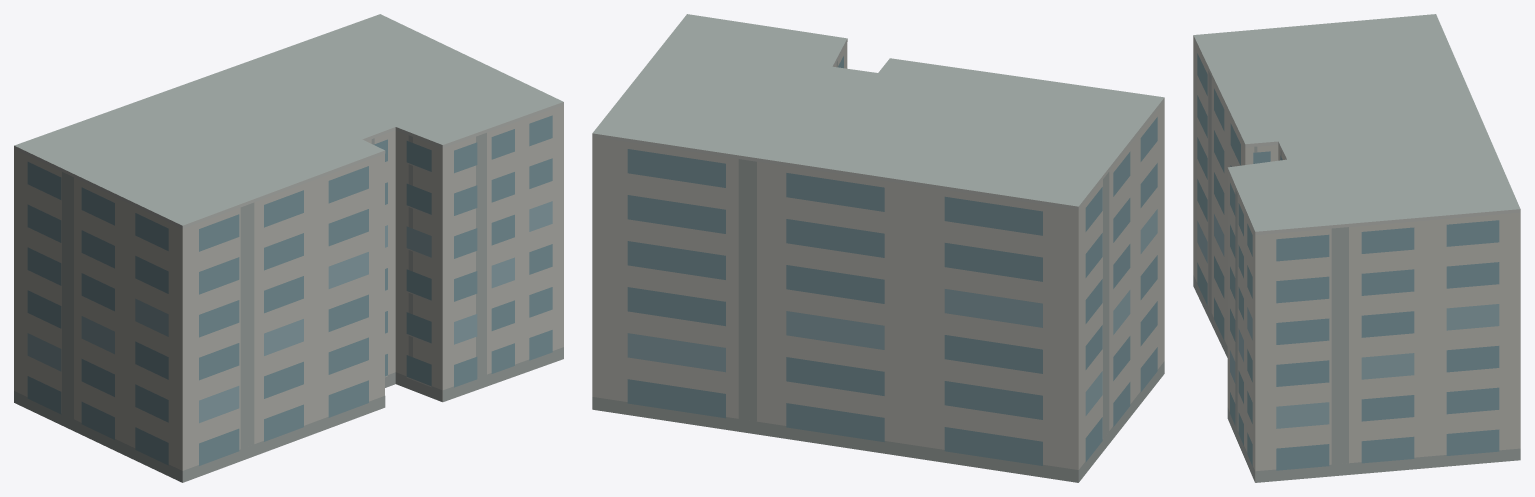
The model's file is survey-upis-33026163.glb.
3 views of the same model, side by side, from view 1: azimuth 30°, elevation 25°; view 2: azimuth 150°, elevation 25°; view 3: azimuth 270°, elevation 25° (orthographic). The views are drawn at different scales.
Parts seen in each view (by area): view 1: survey-upis-33026163.tmp; view 2: survey-upis-33026163.tmp; view 3: survey-upis-33026163.tmp.
Part boxes in pixels (x1,y1,x2,y2): survey-upis-33026163.tmp: (14,14,563,482); survey-upis-33026163.tmp: (592,14,1164,482); survey-upis-33026163.tmp: (1193,14,1520,482).
Size of the model in its own units: 34.96 by 18.79 by 22.2.
